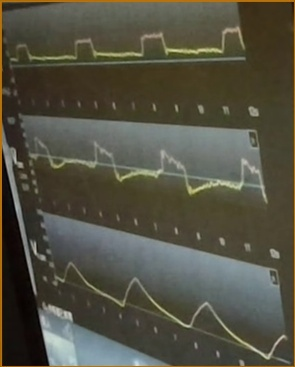Accumulation Flow: (30, 131, 268, 202)
Volume: (55, 256, 286, 360)
